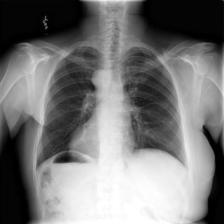normal: (30, 42, 194, 176)
